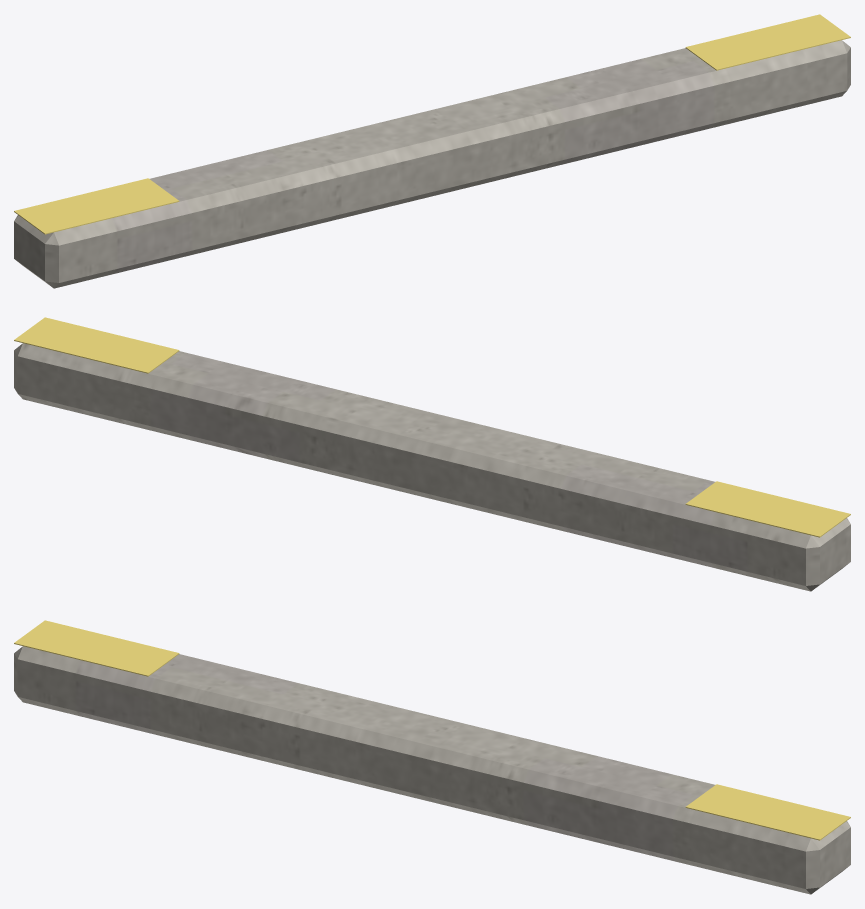
The model's file is wheel_stop.glb.
The picture shows the model from 3 angles, top to bottom: view 1: azimuth 30°, elevation 25°; view 2: azimuth 150°, elevation 25°; view 3: azimuth 330°, elevation 25°; orthographic projection.
Parts seen in each view (by area): view 1: wheel_stop_concrete, wheel_stop_paint_y; view 2: wheel_stop_concrete, wheel_stop_paint_y; view 3: wheel_stop_concrete, wheel_stop_paint_y.
Boxes of the visible parts, box(x1,y1,x2,y2) form: wheel_stop_concrete: box(14, 40, 850, 288); wheel_stop_paint_y: box(14, 14, 850, 234); wheel_stop_concrete: box(14, 343, 850, 591); wheel_stop_paint_y: box(14, 317, 850, 537); wheel_stop_concrete: box(14, 646, 850, 894); wheel_stop_paint_y: box(14, 620, 850, 840).
Bounding box in the file's own units: 1.8 × 0.122 × 0.16.
Materials: 2 (1 with a texture image).
